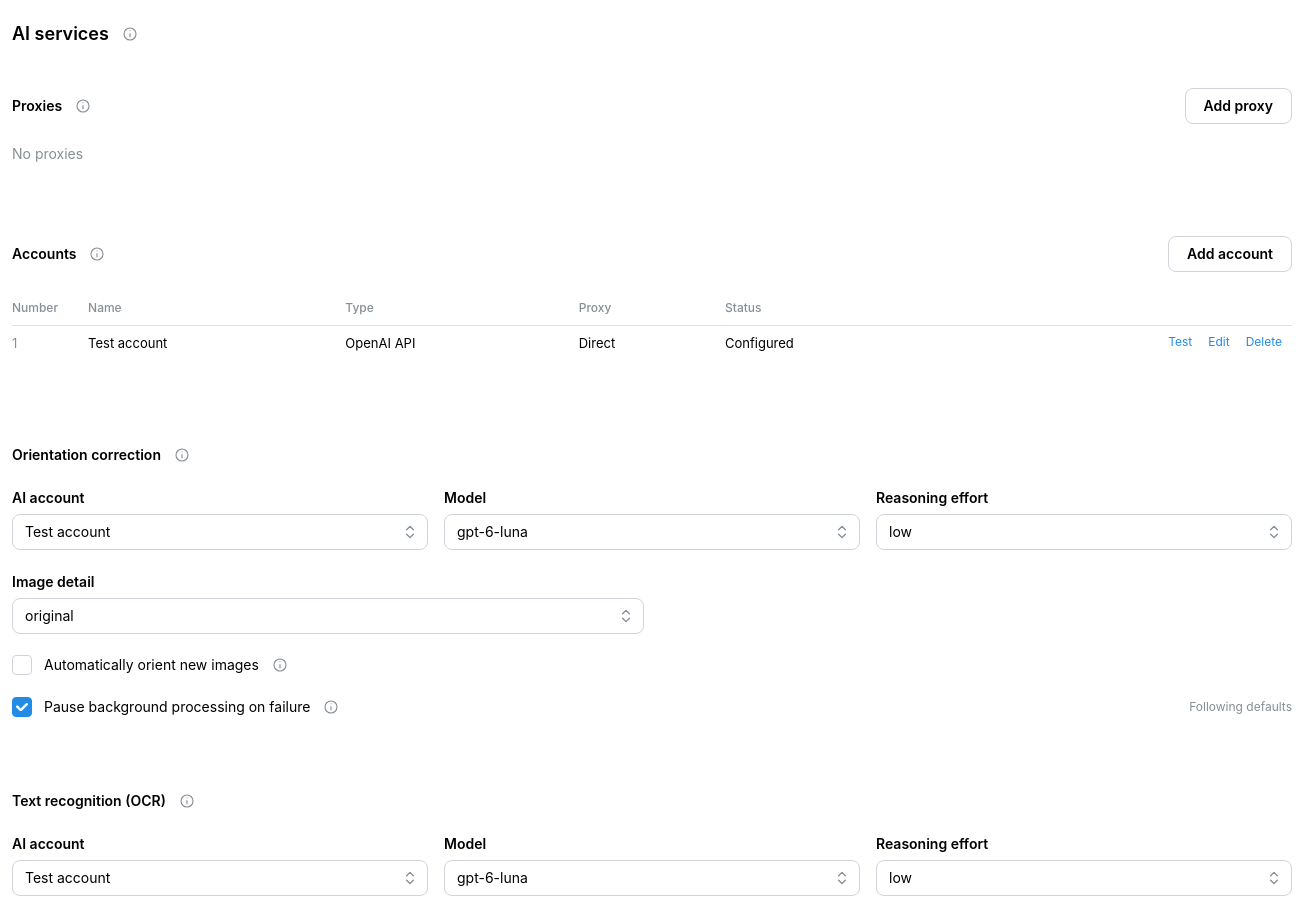
Test: reports account test permission failures without disconnecting the account
Click the button "Test" at (1180, 343), box x1=1168 y1=334 x2=1192 y2=351
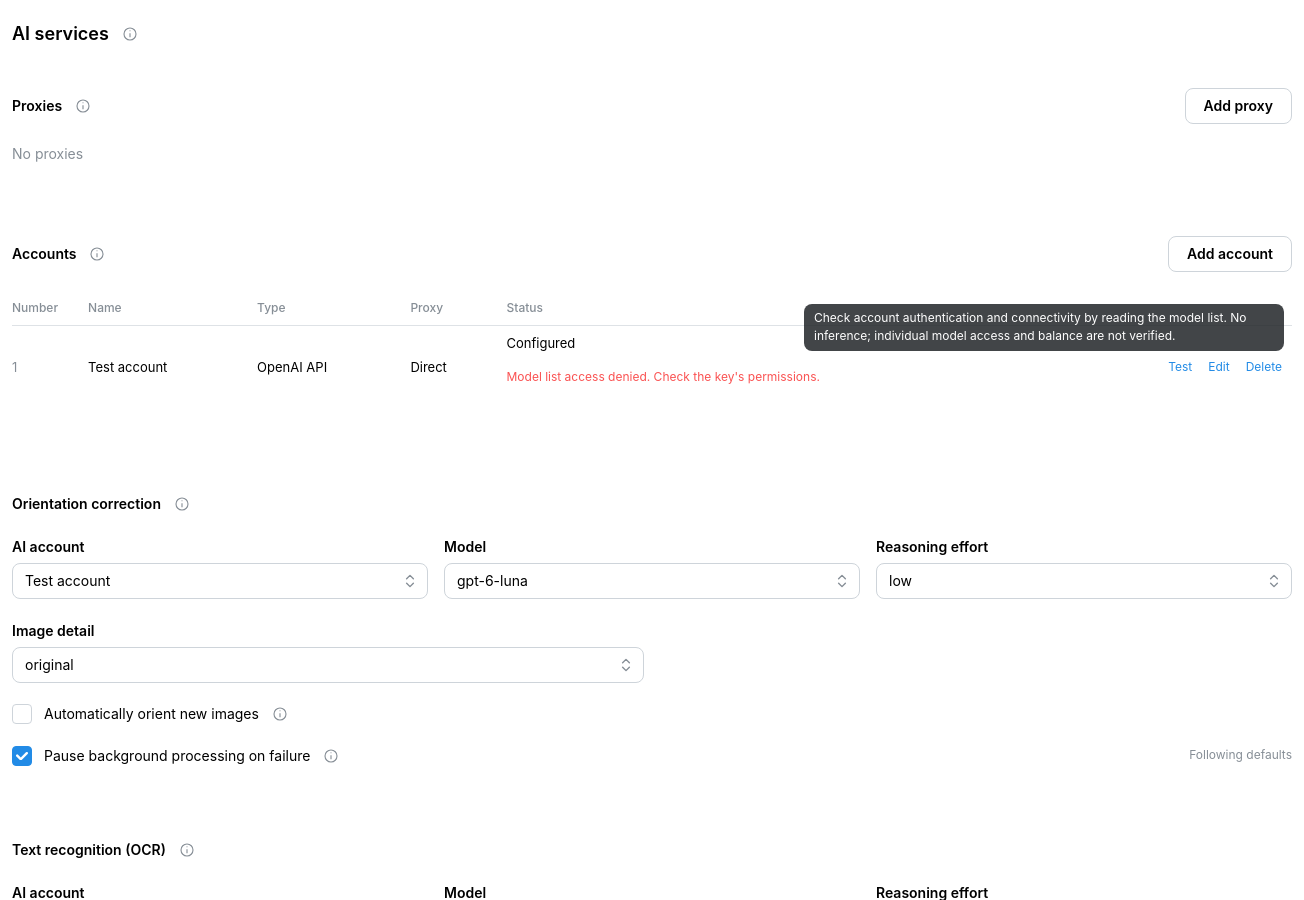
Expected: the button "Test" is enabled, x1=1168 y1=359 x2=1192 y2=376
Now the message shows "Model list access denied", box x1=506 y1=369 x2=820 y2=384
